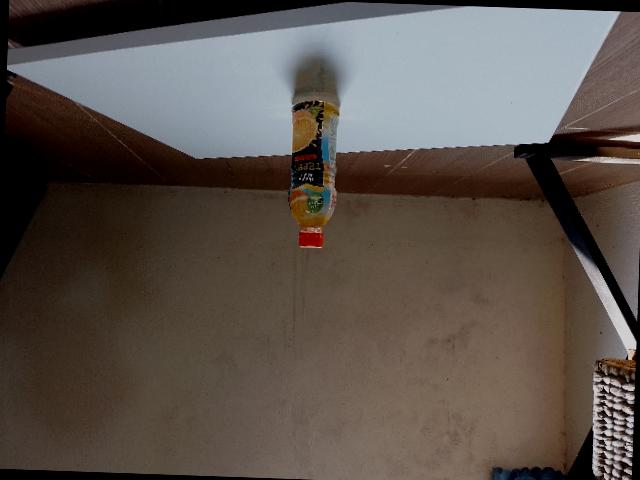teppy_orange_juice: (288, 93, 339, 247)
